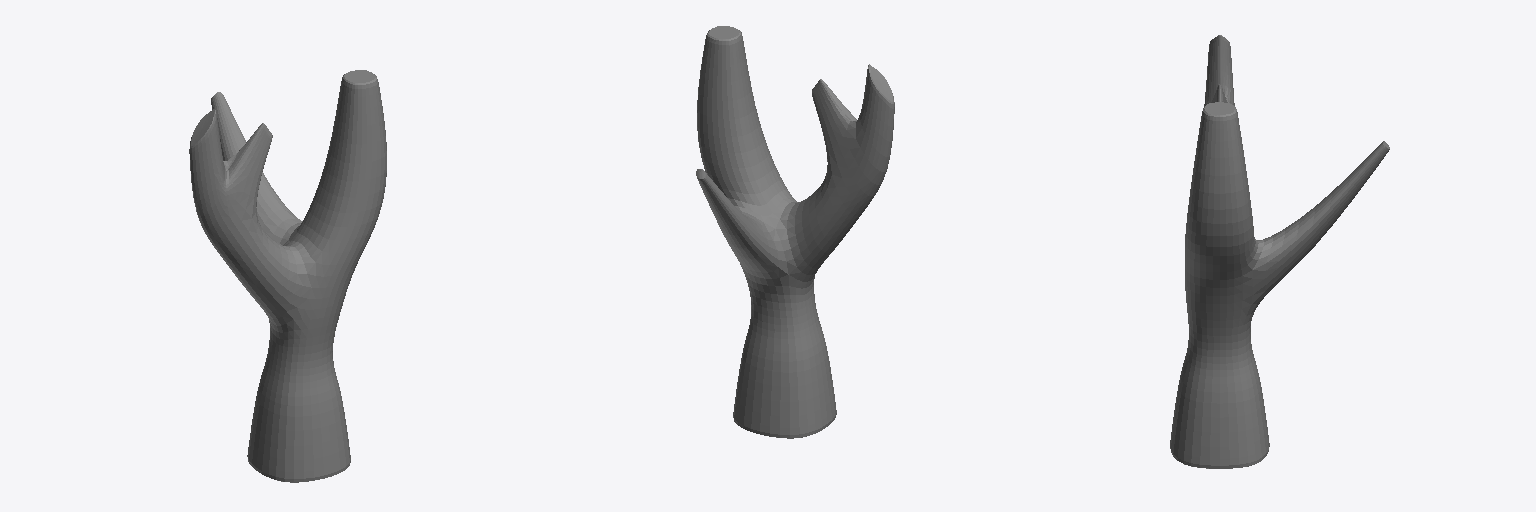
Rendered from Largetree.OBJ.
3 views of the same model, side by side, from view 1: azimuth 30°, elevation 25°; view 2: azimuth 150°, elevation 25°; view 3: azimuth 270°, elevation 25° (orthographic).
Visible parts, largest first — view 1: Group1; view 2: Group1; view 3: Group1.
Part boxes in pixels (bbox=[...]): Group1: bbox=[189, 70, 386, 482]; Group1: bbox=[696, 26, 894, 438]; Group1: bbox=[1170, 35, 1389, 468].
Bounding box in the file's own units: 418 × 777 × 415.